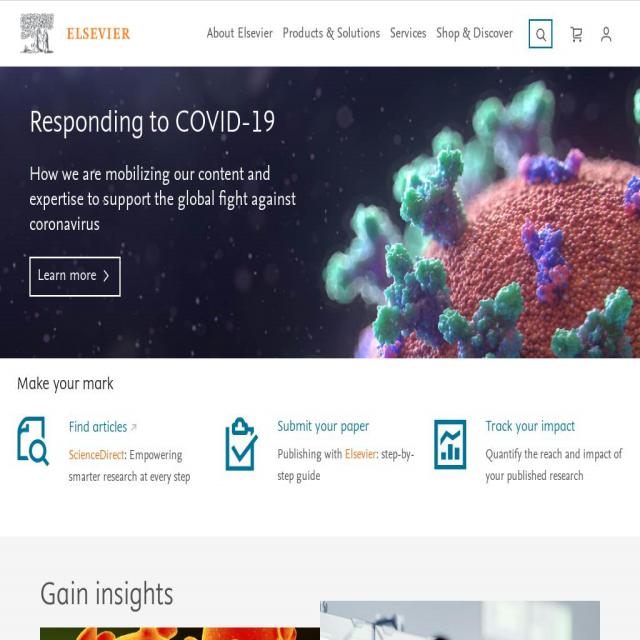navigation-links: (201, 16, 516, 49)
search: (530, 18, 554, 52)
